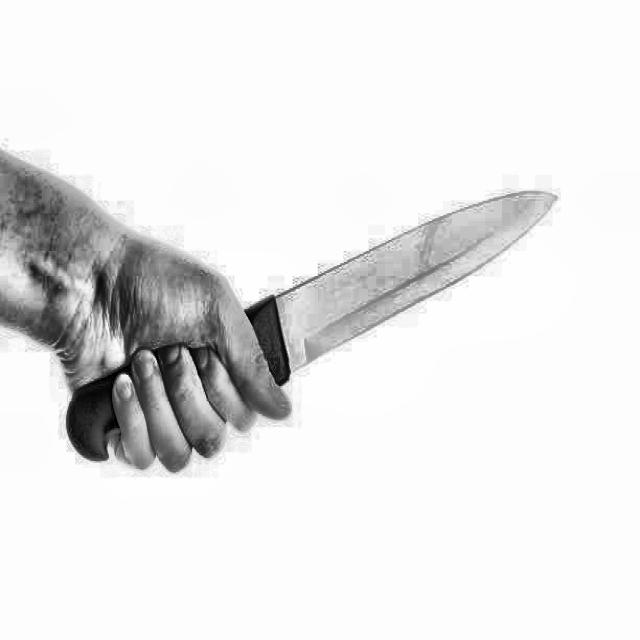pisau: (52, 179, 573, 497)
